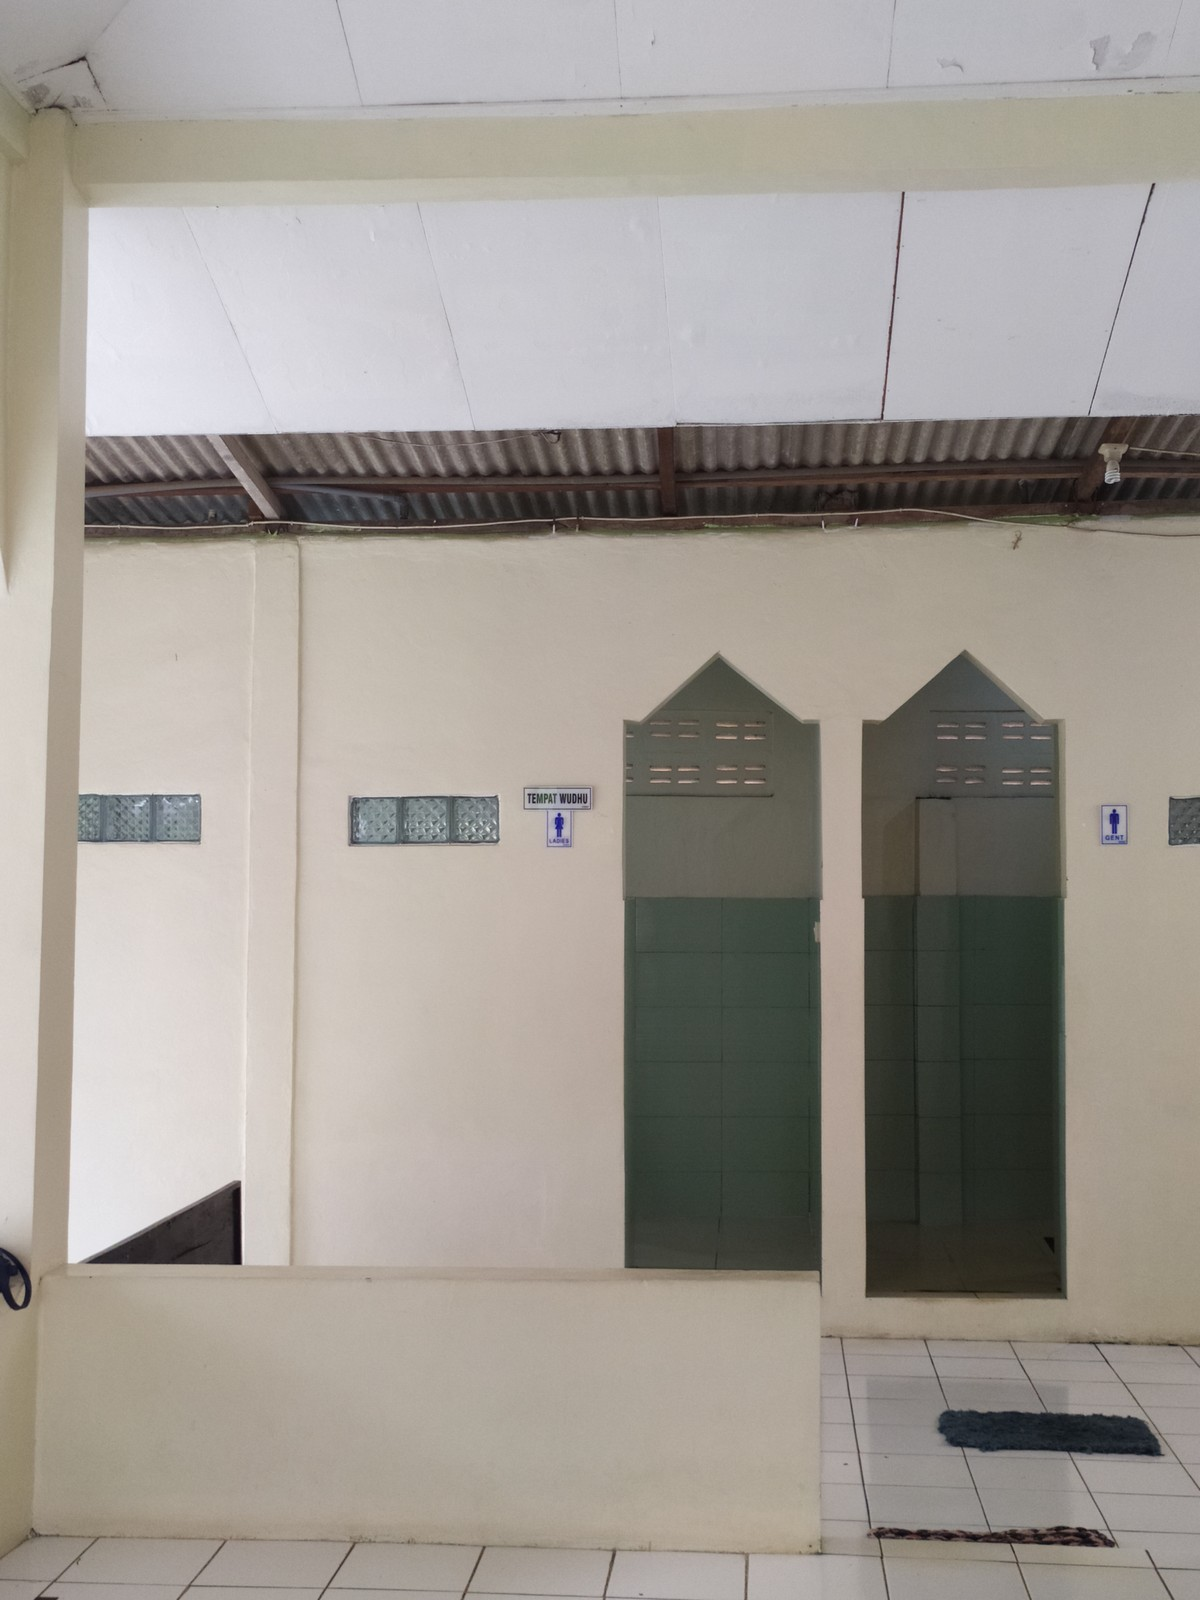concrete column: (236, 524, 311, 1270)
